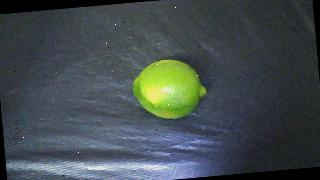LOCAL: (131, 56, 209, 122)
